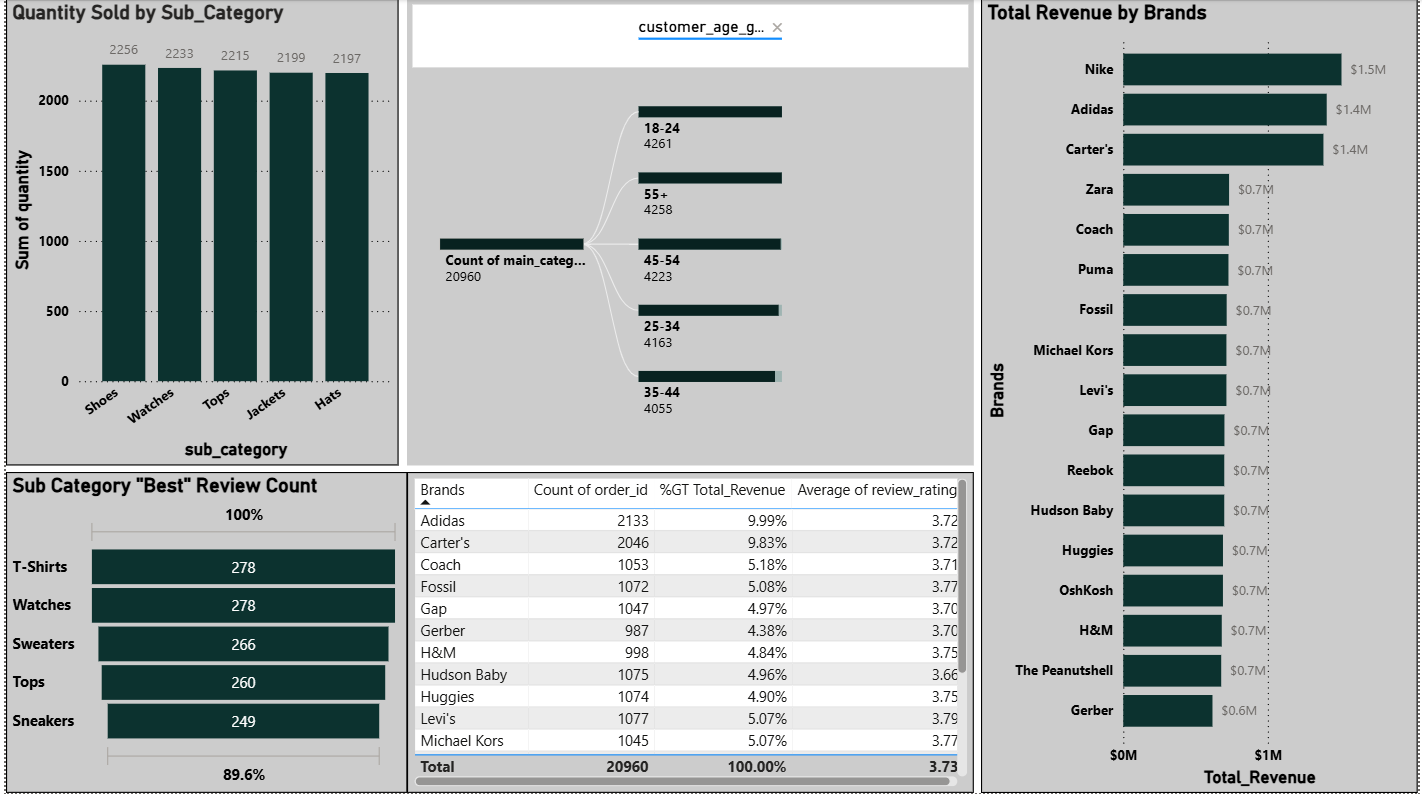

Layout of this report page (visuals, bound fields, positions):
{"tool":"powerbi","page":{"name":"Page 2","canvas":[1280,720],"ordinal":1},"visuals":[{"type":"clusteredBarChart","title":"Total Revenue by Brands","fields":{"Category":["Dim_Brand.Brands"],"Y":["Amazon_Clothing_Sales_2025.Total_Revenue"]},"box":[884.1,0,395.9,719.8],"z":0},{"type":"columnChart","title":"Quantity Sold by Sub_Category","fields":{"Category":["Dim_Sub_Category.sub_category"],"Y":["Sum(Amazon_Clothing_Sales_2025.quantity)"]},"box":[0,0,356.4,422.6],"z":1000},{"type":"funnel","title":"Sub Category \"Best\" Review Count","fields":{"Category":["Dim_Sub_Category.sub_category"],"Y":["CountNonNull(Amazon_Clothing_Sales_2025.Rating_remarks)"]},"box":[0,428.9,363.8,290.8],"z":2000},{"type":"decompositionTreeVisual","fields":{"Analyze":["CountNonNull(Amazon_Clothing_Sales_2025.main_category)"],"ExplainBy":["Dim_Customer_AgeGroup.customer_age_group"]},"box":[363.6,0,514.2,422.6],"z":3000},{"type":"tableEx","fields":{"Values":["Dim_Brand.Brands","Amazon_Clothing_Sales_2025.order_id","Amazon_Clothing_Sales_2025.Total_Revenue","Amazon_Clothing_Sales_2025.review_rating"]},"box":[363.6,428.9,514.2,291.1],"z":4000}]}

Visuals, with their boxes in screenshot pixels (x1, y1, x2, y2), scaled from the page's 1280x720 canvas onto the 1422x794 screenshot:
"Total Revenue by Brands" clusteredBarChart: [x1=982, y1=0, x2=1421, y2=793]
"Quantity Sold by Sub_Category" columnChart: [x1=0, y1=0, x2=396, y2=466]
"Sub Category "Best" Review Count" funnel: [x1=0, y1=473, x2=404, y2=793]
decompositionTreeVisual - CountNonNull(Amazon_Clothing_Sales_2025.main_category) x Dim_Customer_AgeGroup.customer_age_group: [x1=404, y1=0, x2=975, y2=466]
tableEx - Dim_Brand.Brands x Amazon_Clothing_Sales_2025.order_id: [x1=404, y1=473, x2=975, y2=793]
